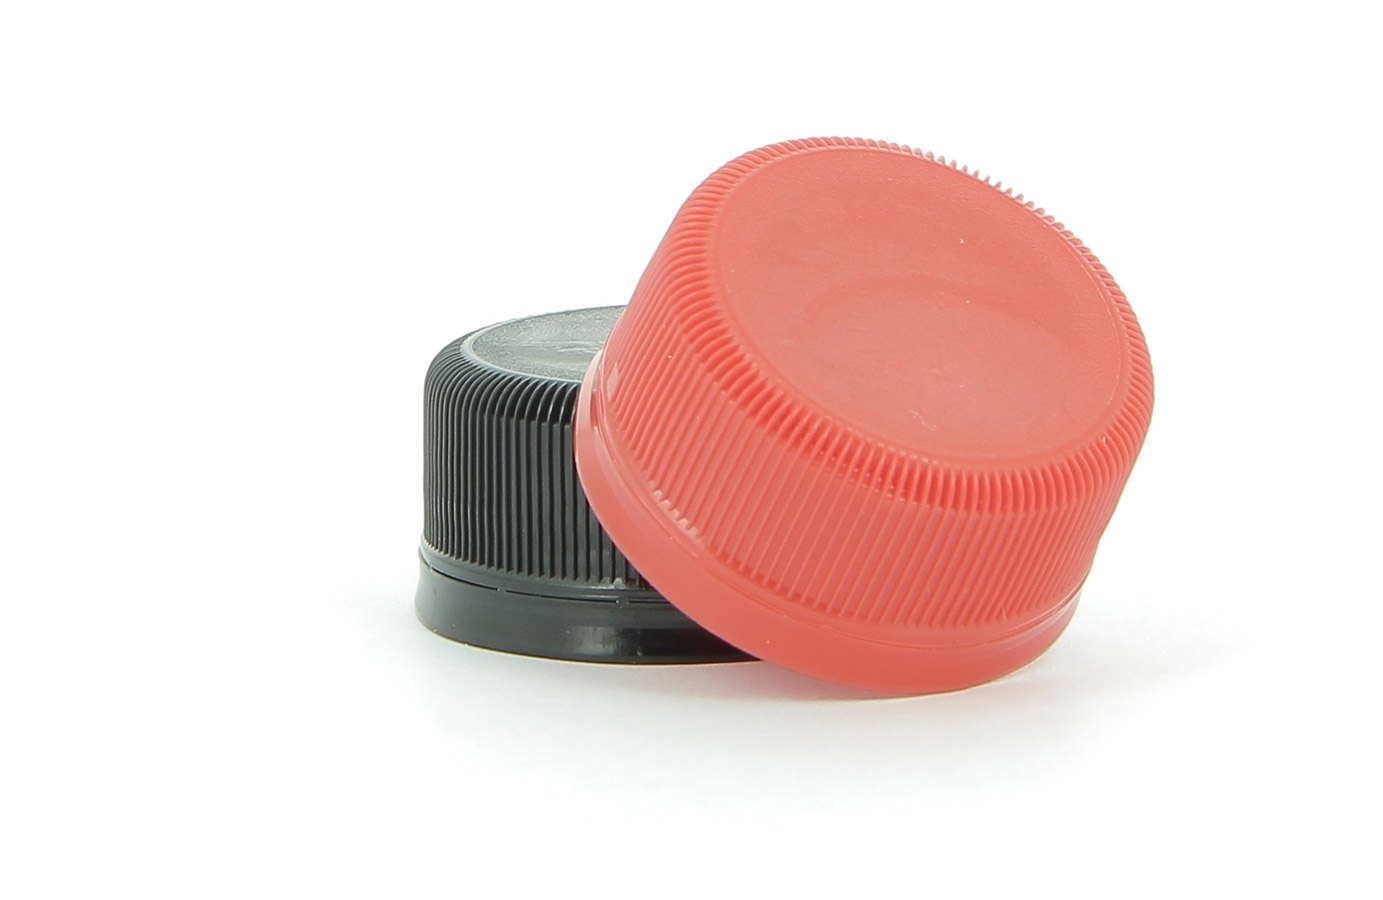PlasticCap: (601, 124, 1117, 683)
